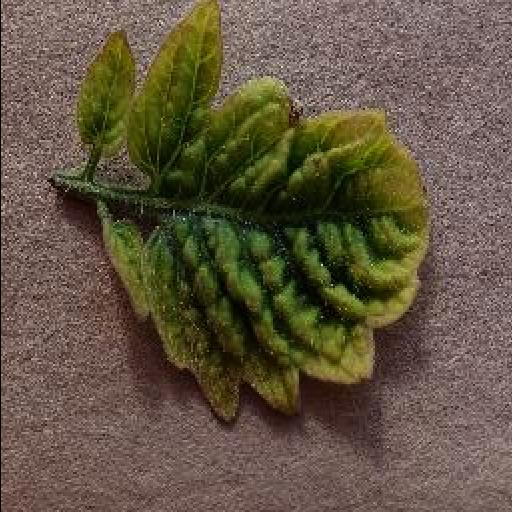disease_tomato: (70, 0, 432, 424)
